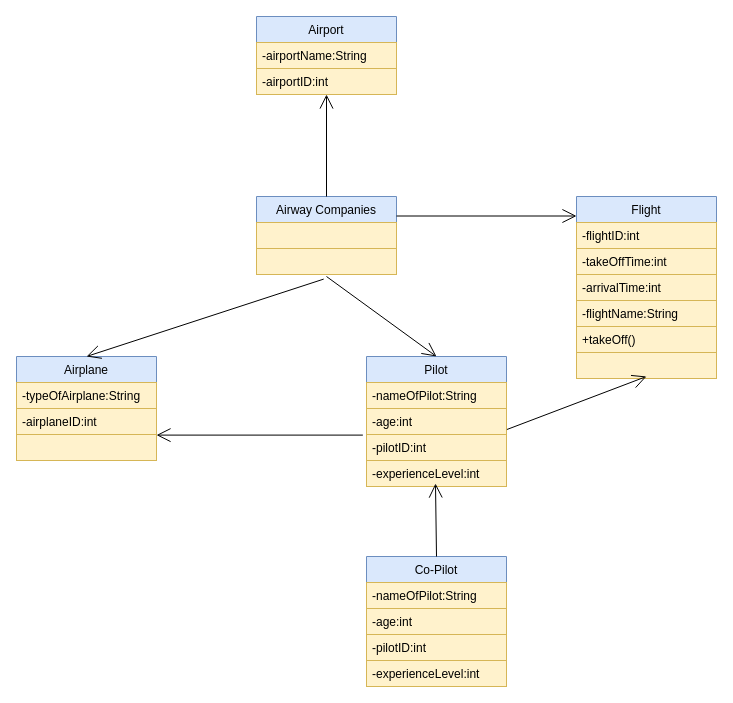
The diagram is 733 pixels wide and 703 high, and some of its shapes have lost their labels. Here are the shapes that lost their labels. From the top down, the centre of each, then its label:
point (326, 235): -companyID:int
point (326, 261): -companyName:String
point (646, 365): +landing()
point (86, 447): -airplaneStatus:bool
